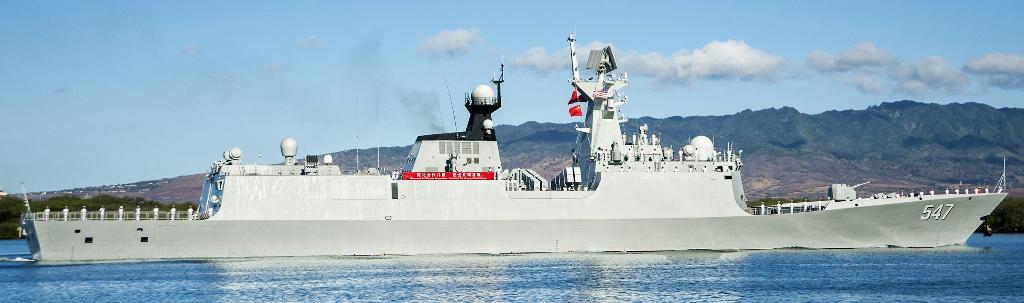Warship: (14, 44, 1012, 265)
